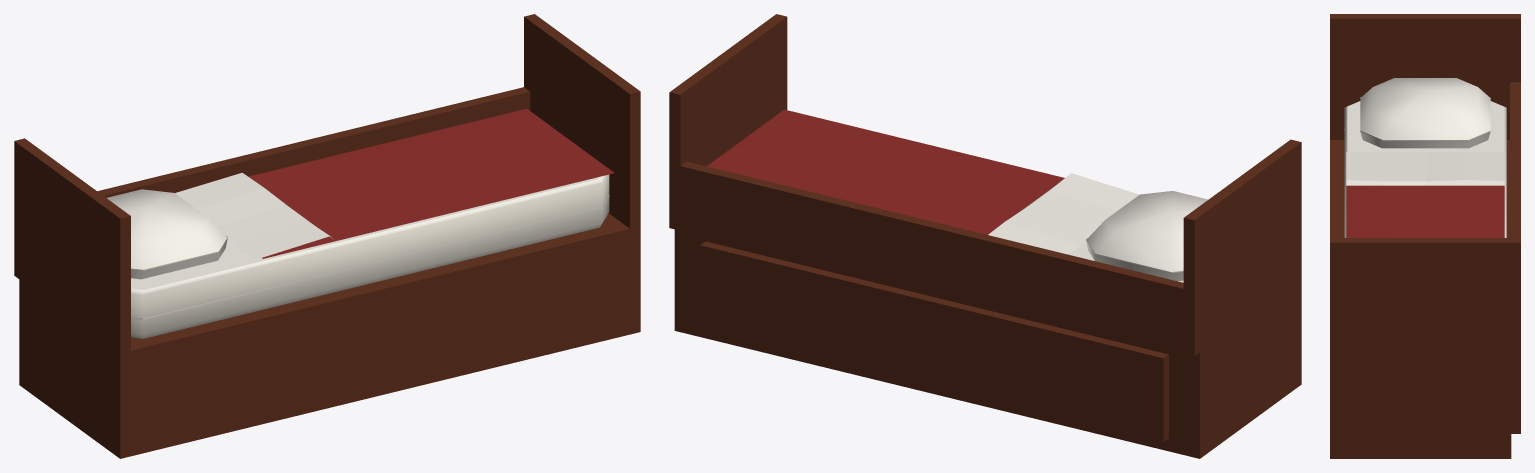
Rendered from parametric-sized-berth-l170w60-2nd.glb.
3 views of the same model, side by side, from view 1: azimuth 30°, elevation 25°; view 2: azimuth 150°, elevation 25°; view 3: azimuth 270°, elevation 25° (orthographic). The views are drawn at different scales.
Parts seen in each view (by area): view 1: parametric-sized-berth-l170w60-2nd; view 2: parametric-sized-berth-l170w60-2nd; view 3: parametric-sized-berth-l170w60-2nd.
Part boxes in pixels (bbox=[...]): parametric-sized-berth-l170w60-2nd: bbox=[14, 14, 640, 458]; parametric-sized-berth-l170w60-2nd: bbox=[669, 14, 1301, 458]; parametric-sized-berth-l170w60-2nd: bbox=[1330, 14, 1520, 458].
Size of the model in its own units: 1.7 by 0.75 by 0.6.
